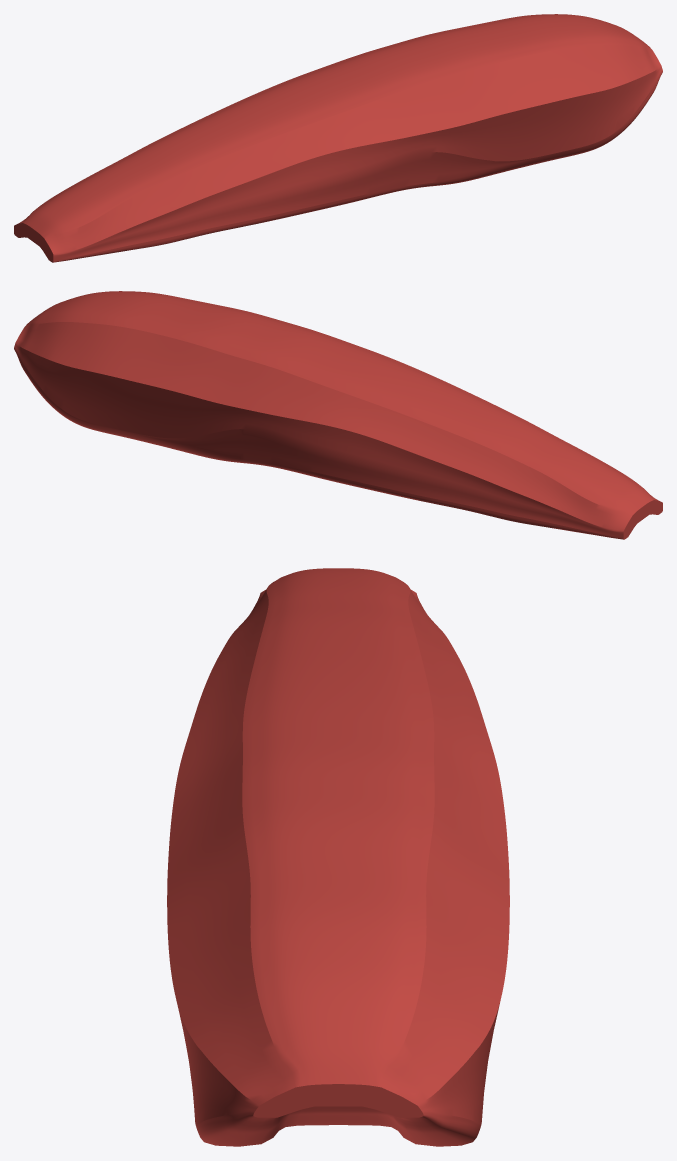
File: bobber_3.glb
3 views of the same model, one above another, from view 1: azimuth 30°, elevation 25°; view 2: azimuth 150°, elevation 25°; view 3: azimuth 270°, elevation 25° (orthographic). The views are drawn at different scales.
Visible parts, largest first — view 1: bobber_3; view 2: bobber_3; view 3: bobber_3.
Part boxes in pixels (x1,y1,x2,y2): bobber_3: (14,14,662,262); bobber_3: (14,291,662,539); bobber_3: (167,568,509,1146).
Bounding box in the file's own units: 1.06 × 0.1857 × 0.2599.
